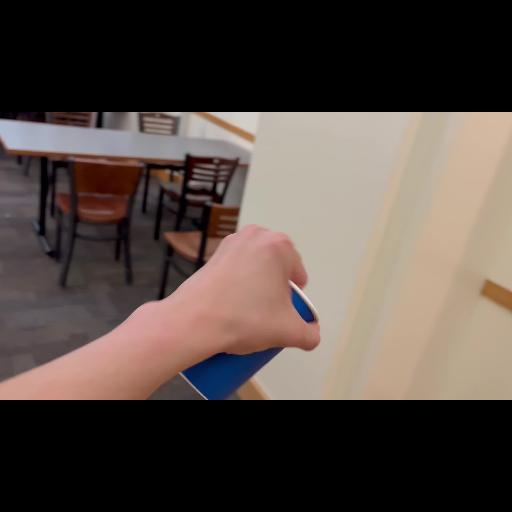lp_paper_cup: (165, 246, 325, 400)
